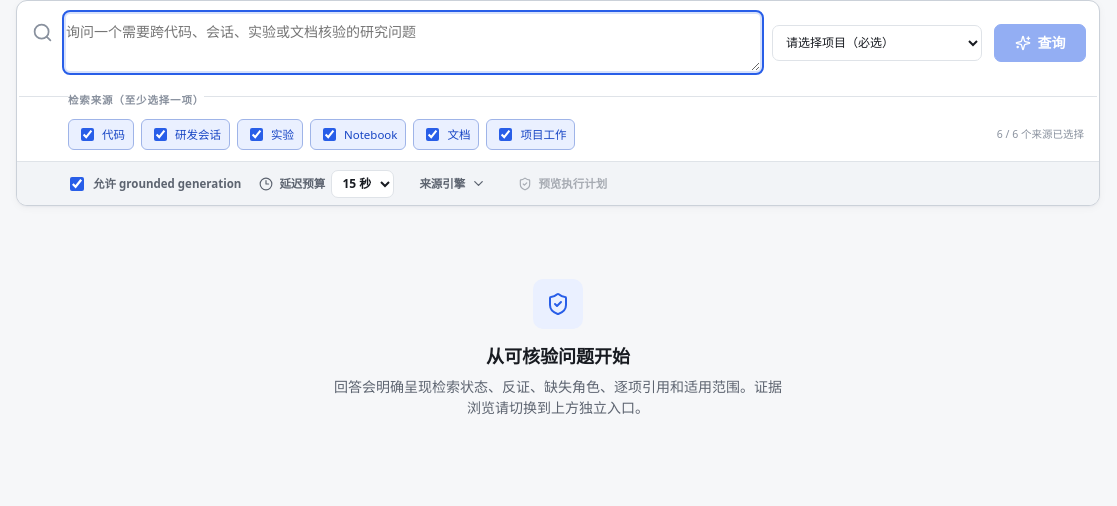
TrustedQueryPanel › requires an explicit project and never selects the first project silently
The width and height of the screenshot is (1117, 506).
Check: the dropdown named "可信查询项目" shows "请选择项目（必选）", box [772,25,982,61]
Type "Which project owns this?" into the text box named "可信查询问题". click: (413, 43)
box: [66,14,760,71]
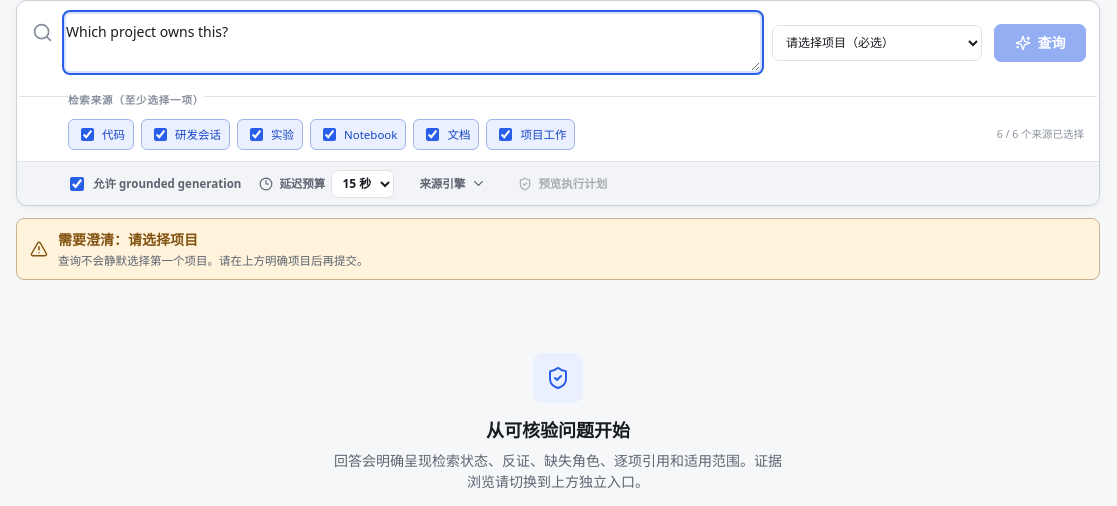
Check: the button "查询" is disabled, box [994,24,1086,62]
Check: the text "需要澄清：请选择项目" is shown, box [58,230,198,249]
